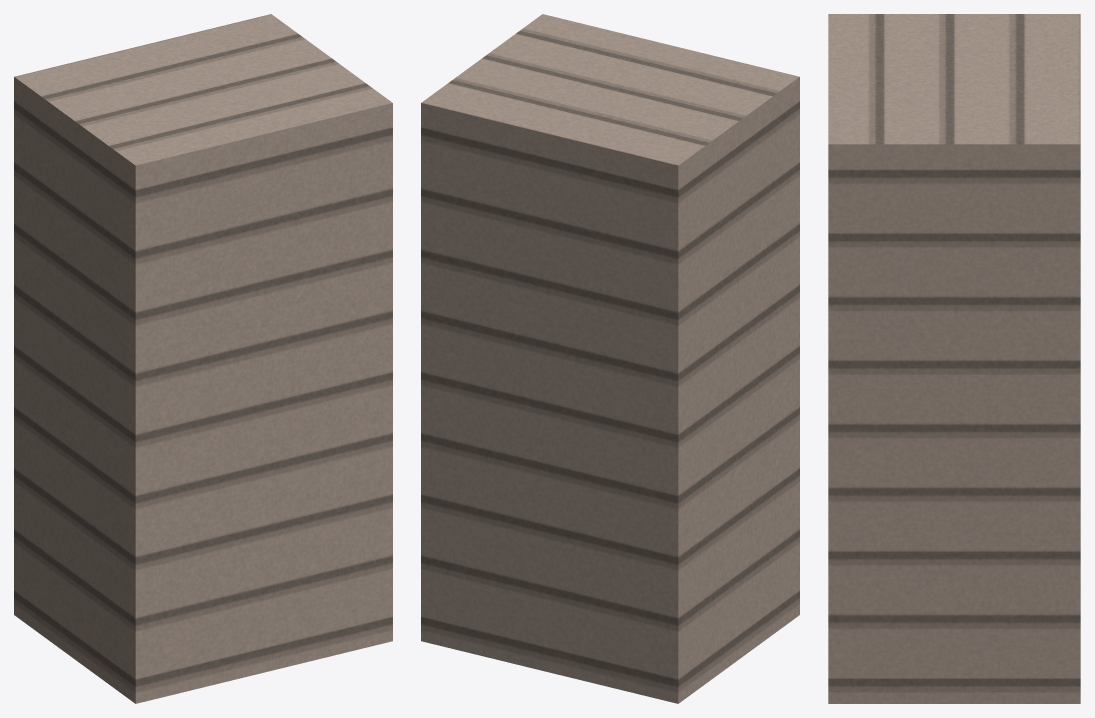
Rendered from podium_lectern_pulpit.glb.
3 views of the same model, side by side, from view 1: azimuth 30°, elevation 25°; view 2: azimuth 150°, elevation 25°; view 3: azimuth 270°, elevation 25° (orthographic). The views are drawn at different scales.
Parts seen in each view (by area): view 1: podium_lectern_pulpit-col; view 2: podium_lectern_pulpit-col; view 3: podium_lectern_pulpit-col.
Boxes of the visible parts, left/top/right/bottom form: podium_lectern_pulpit-col: left=14, top=14, right=392, bottom=703; podium_lectern_pulpit-col: left=421, top=14, right=799, bottom=703; podium_lectern_pulpit-col: left=828, top=14, right=1080, bottom=703.
Size of the model in its own units: 0.55 by 1.1 by 0.45.
1 material, 1 textured.
